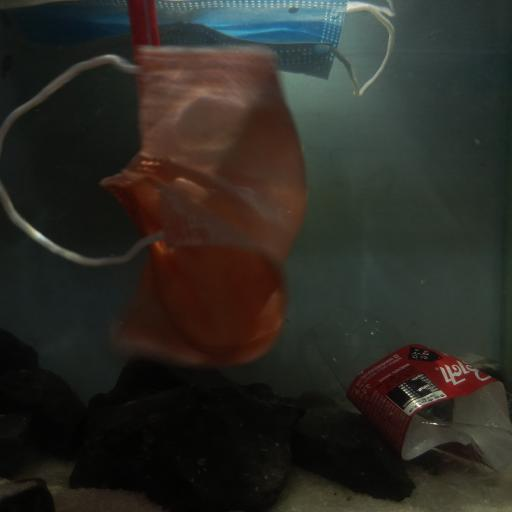mask: (0, 51, 313, 368), (0, 0, 395, 92)
plastic_bottle: (313, 314, 512, 508)
plastic_straw: (130, 0, 162, 54)
